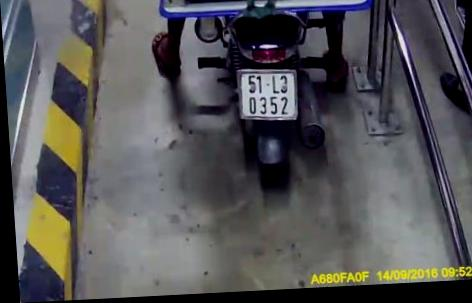License_Plate: (229, 61, 304, 129)
